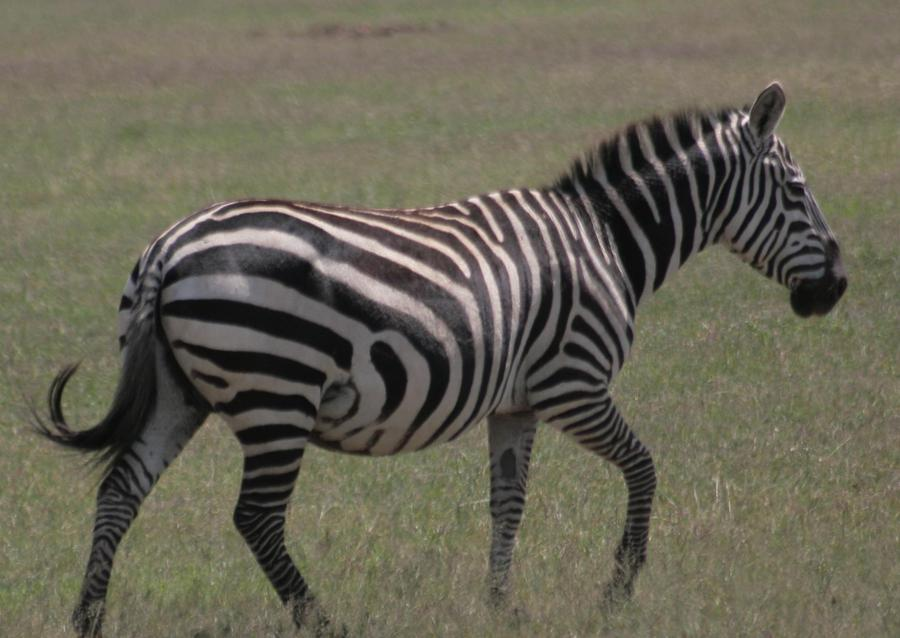zebra_plains: (191, 164, 630, 484)
